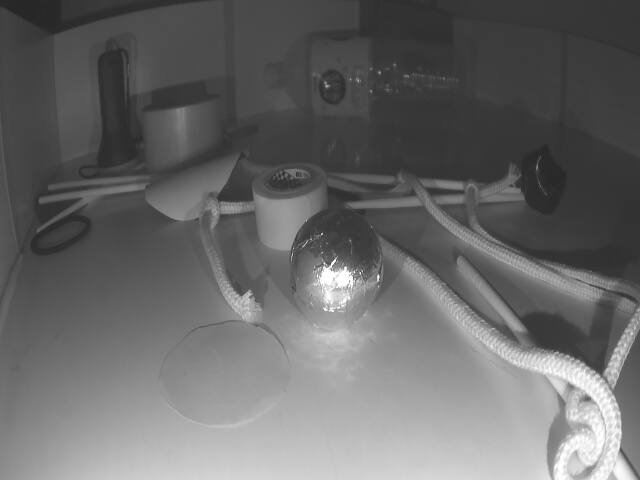Dead: (520, 146, 566, 214)
Live: (292, 208, 382, 331)
